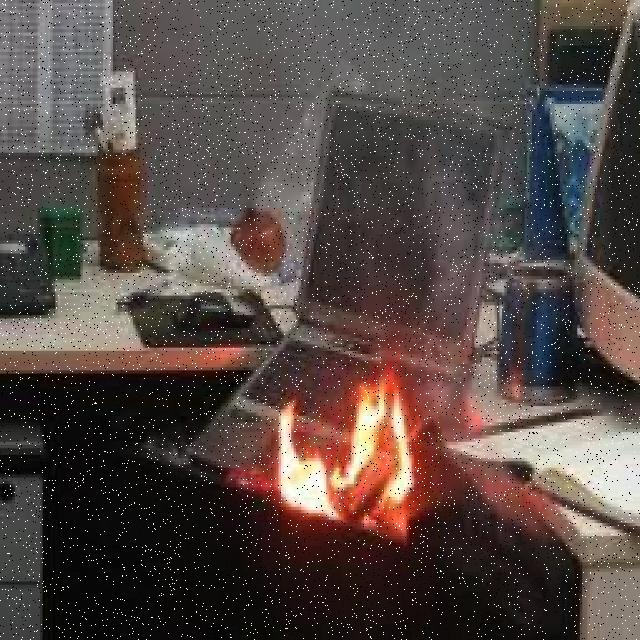fire: (275, 353, 440, 547)
